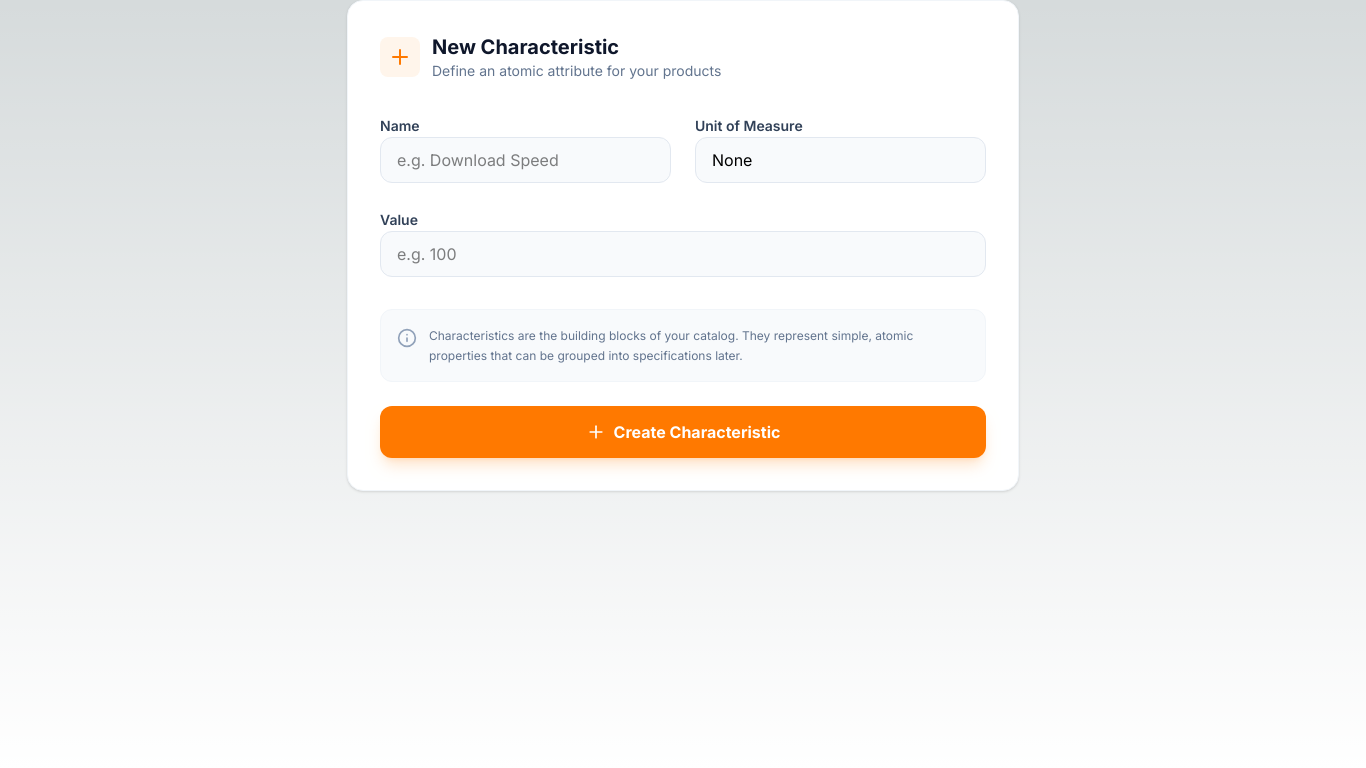
it: CharacteristicForm › shows validation errors for empty fields
Click the button "Create Characteristic" at (683, 432), box [380,406,986,458]
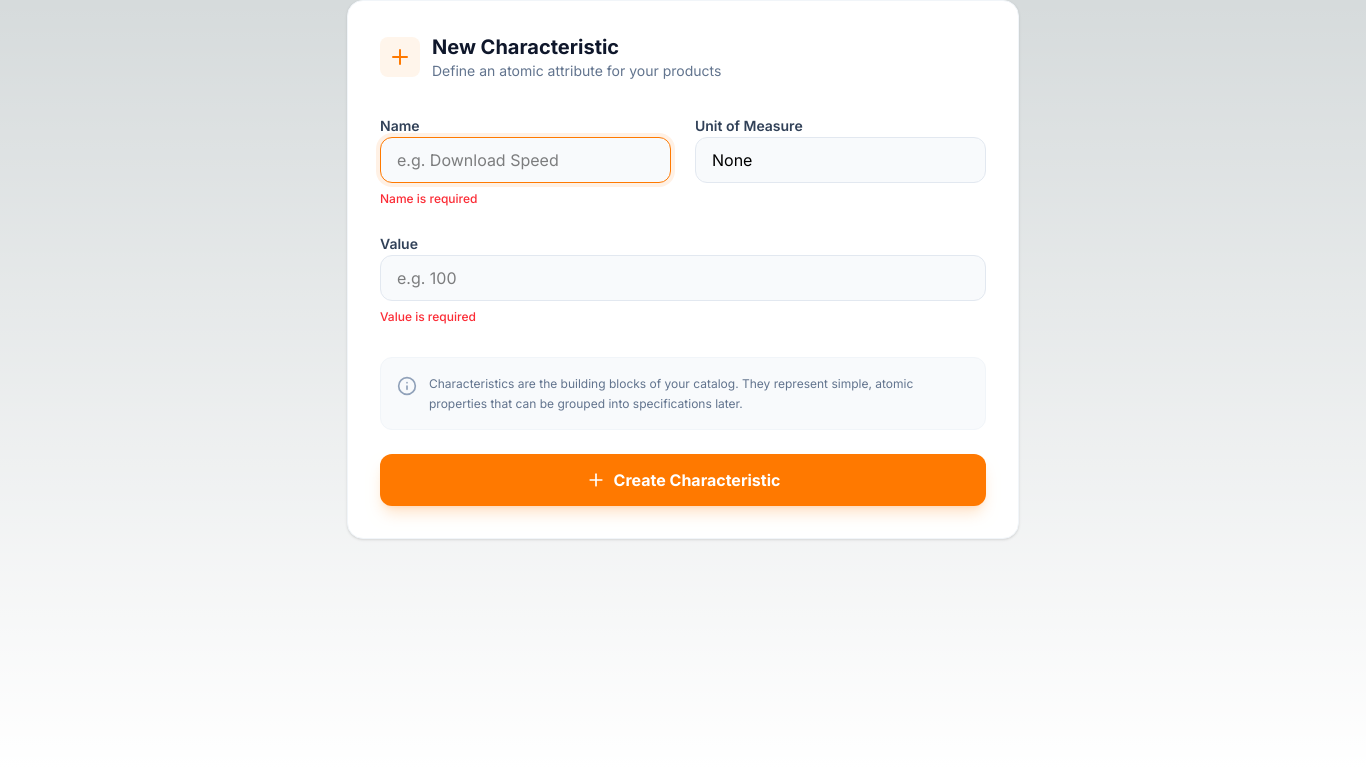
Result: the text "Name is required" is shown at [380,191,478,206]
Result: the text "Value is required" is shown at [380,309,476,324]
